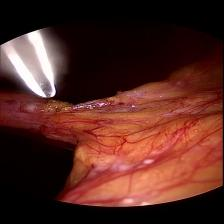Scissors: (3, 26, 59, 99)
